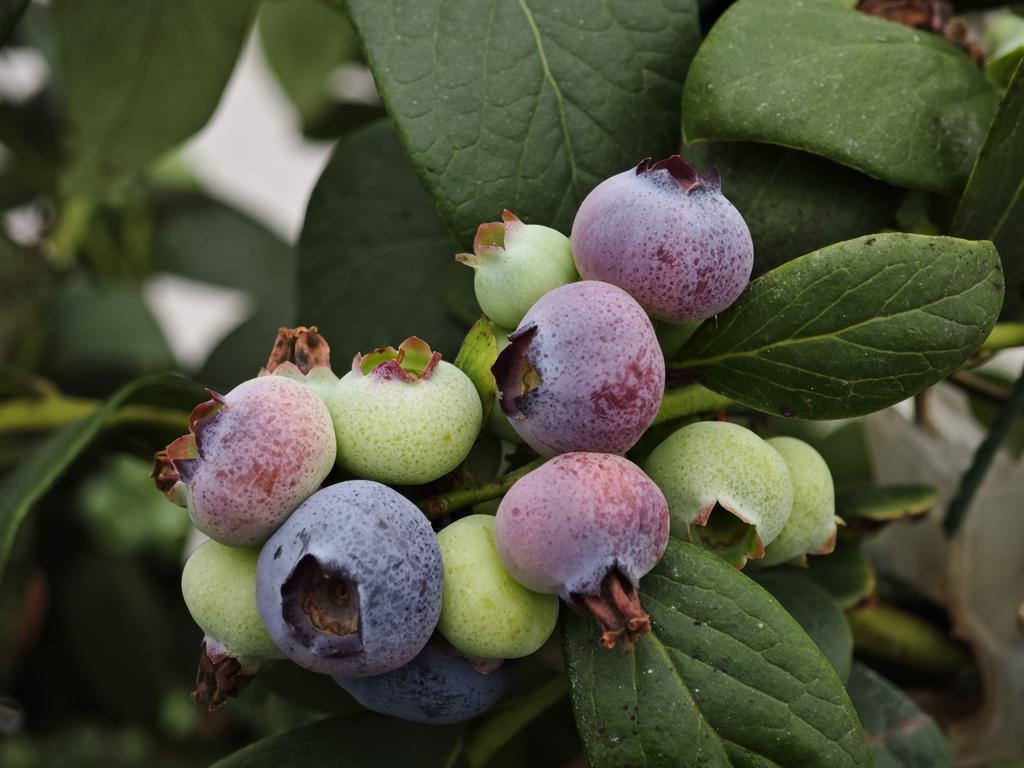RipeBlueBerry: (266, 487, 440, 679)
Semi-RipeBlueBerry: (573, 151, 754, 311), (504, 283, 666, 460), (500, 447, 670, 599), (177, 376, 329, 540)
UnripeBlueBerry: (653, 423, 793, 561), (336, 353, 483, 478)
